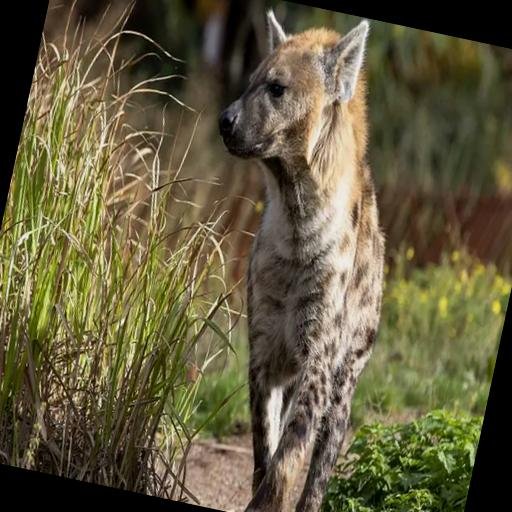hyenas: (127, 0, 512, 512)
